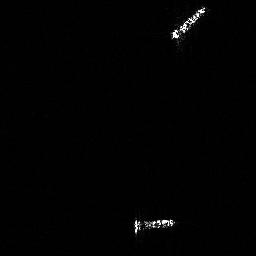ship: (168, 3, 209, 42), (131, 214, 179, 238)
